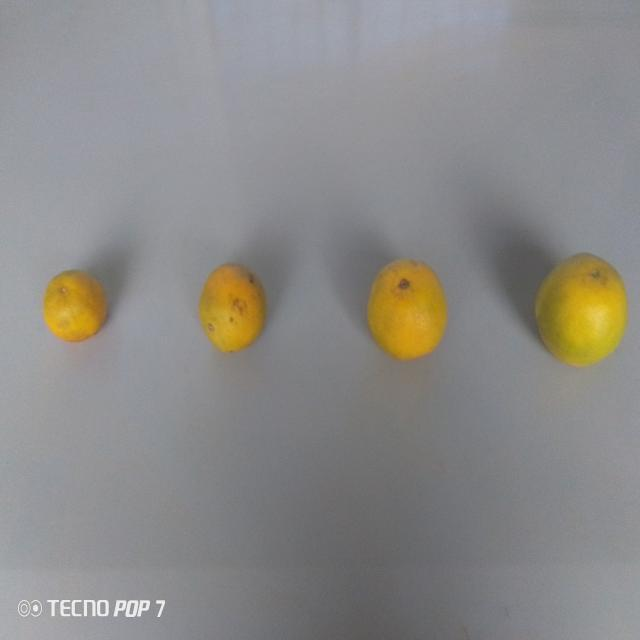Ripe orange: (528, 242, 632, 372), (365, 248, 450, 372), (193, 256, 279, 368), (32, 260, 122, 345)
